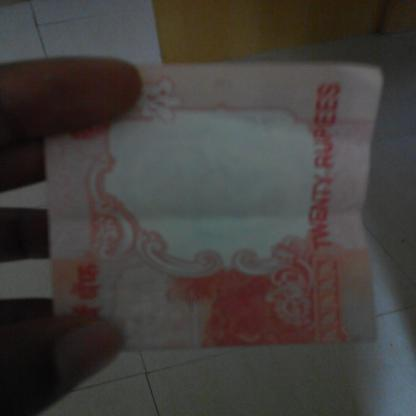Old20Back: (45, 63, 382, 352)
